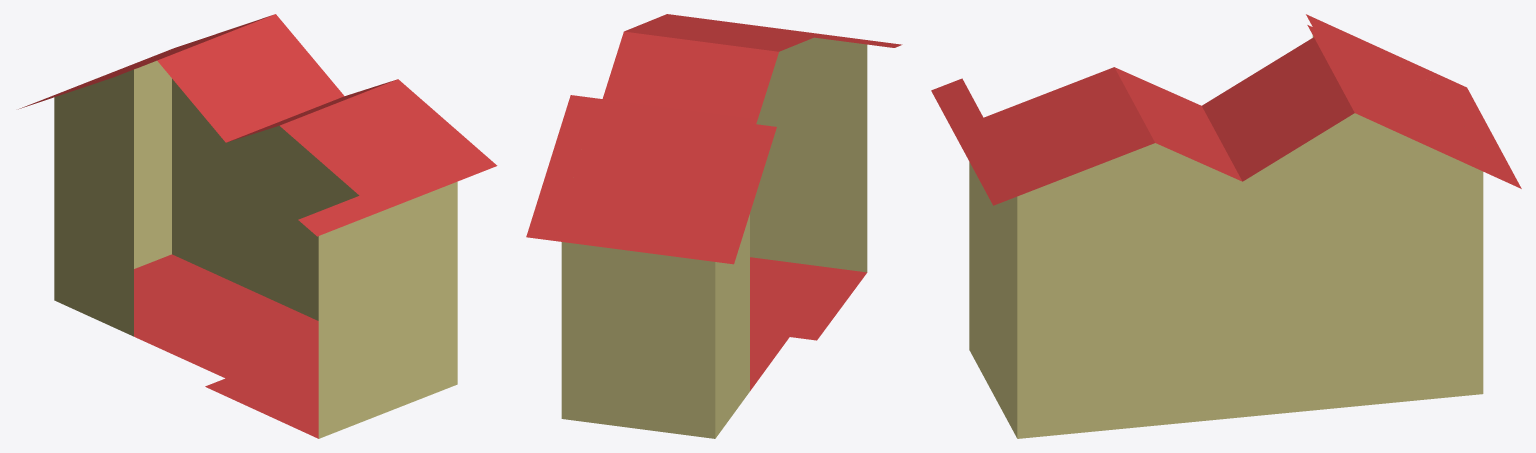
The picture shows the model from 3 angles, left to right: view 1: azimuth 30°, elevation 25°; view 2: azimuth 150°, elevation 25°; view 3: azimuth 270°, elevation 25°; orthographic projection. The views are drawn at different scales.
Bounding box in the file's own units: 8.43 × 13.8 × 7.92.
